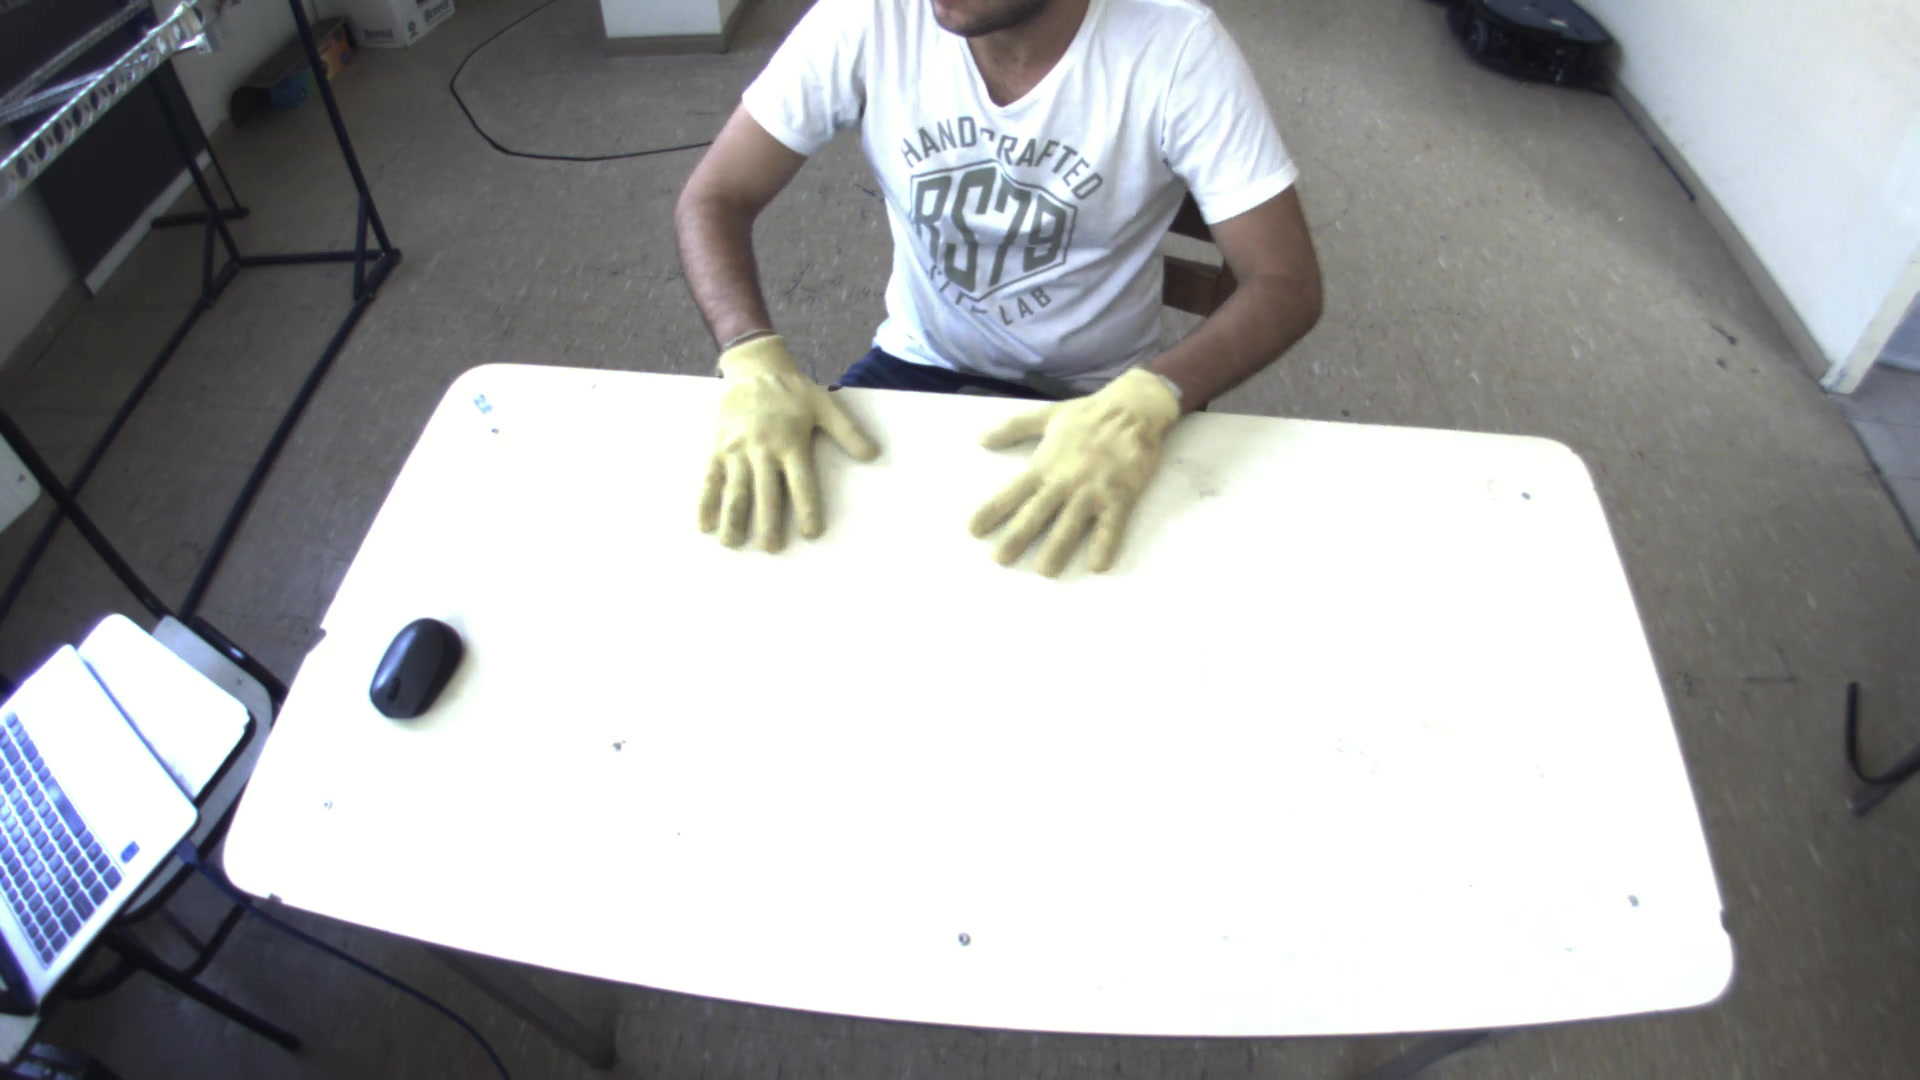hand: (956, 352, 1188, 589), (680, 320, 889, 558)
